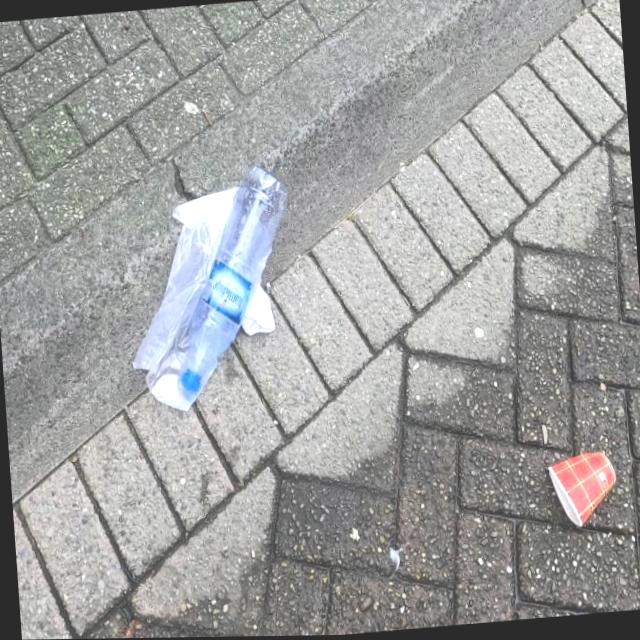Cup: (546, 448, 620, 532)
